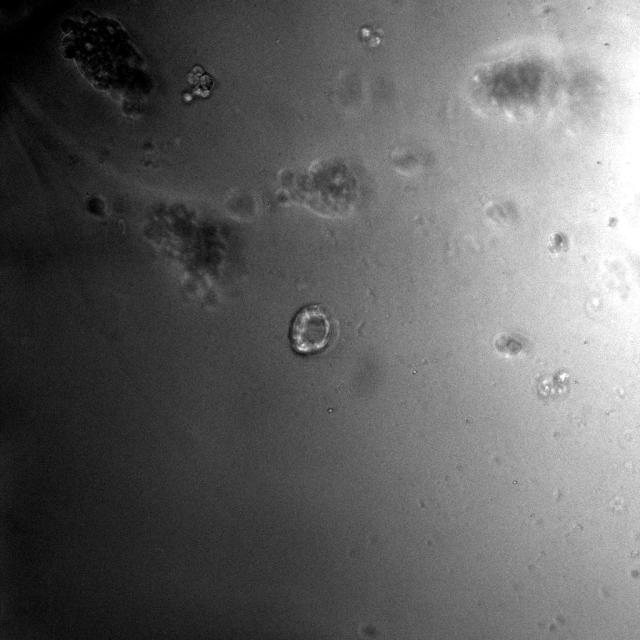organoid: (142, 202, 242, 307), (61, 10, 153, 118), (276, 157, 364, 220), (288, 302, 339, 356), (182, 65, 215, 103), (358, 24, 382, 47)
